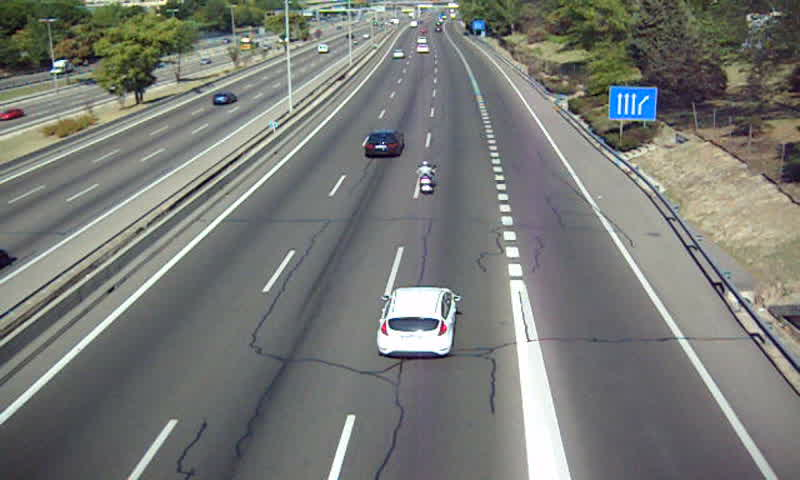car: (377, 287, 457, 359), (365, 130, 404, 158)
motorcycle: (414, 160, 438, 196)
